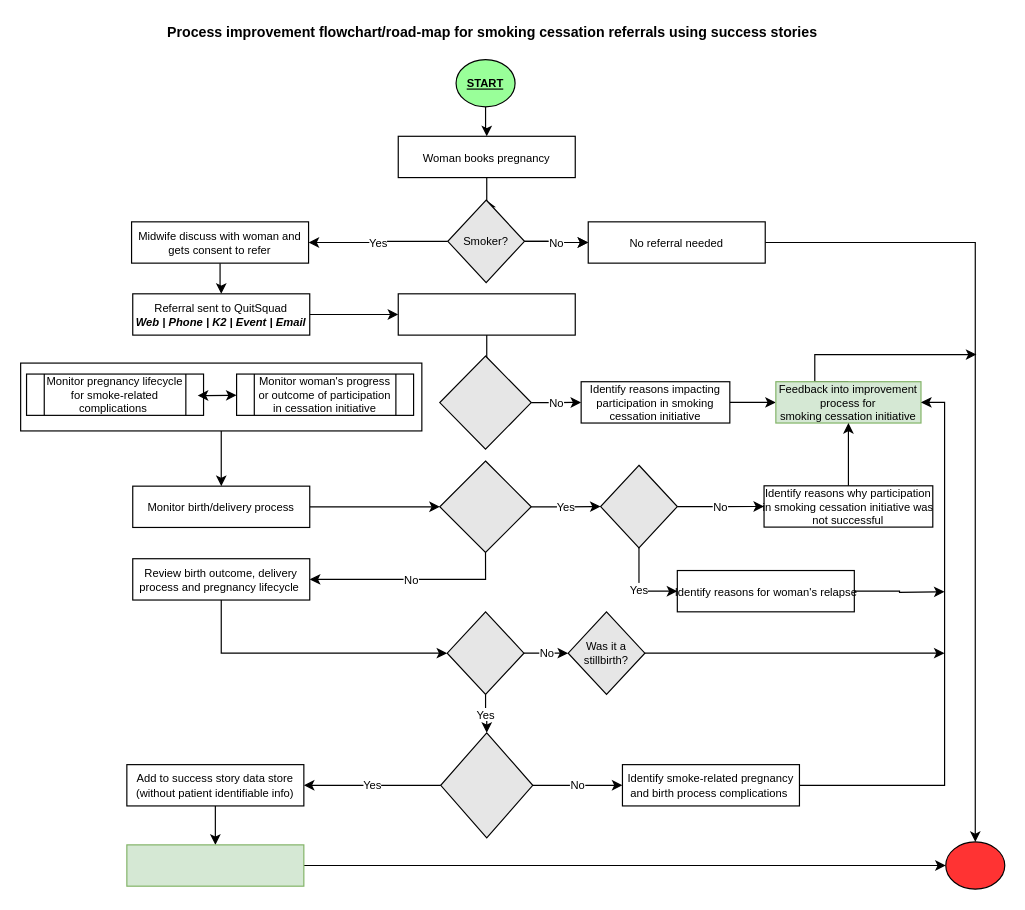
The diagram is 1025 pixels wide and 910 high, and some of its shapes have lost their labels. Here are the shapes that lost their labels. From the top down, the centre of each, then its label:
point (486, 314): QuitSquad books woman onto smoking cessation initiative
point (485, 402): Did woman participate in cessation initiative?
point (485, 506): Woman smoking at time of delivery?
point (638, 506): Did woman have a relapse?
point (485, 652): Was it a Registrable Live birth?
point (486, 785): Was pregnancy & birth process free of complicat- ions?
point (215, 865): Feedback into improvement process for Referrals
point (975, 865): END
